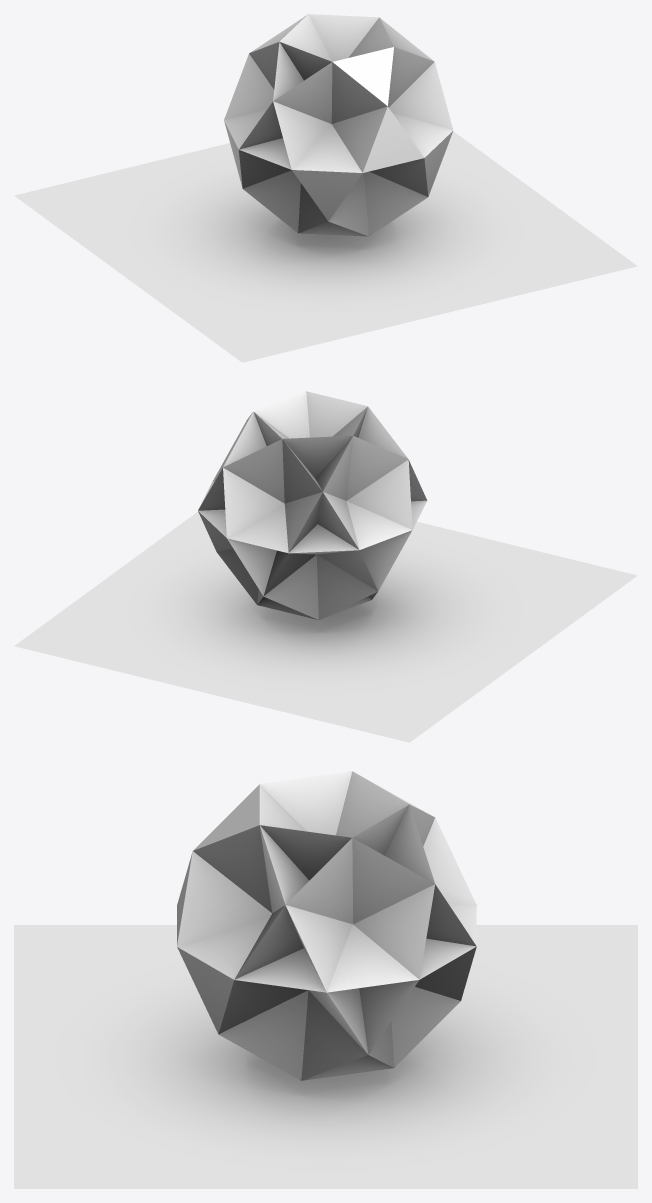
The model's file is hedra.dae.
3 views of the same model, one above another, from view 1: azimuth 30°, elevation 25°; view 2: azimuth 150°, elevation 25°; view 3: azimuth 270°, elevation 25° (orthographic). The views are drawn at different scales.
Visible parts, largest first — view 1: pasted__pPlane2, Hedra05; view 2: pasted__pPlane2, Hedra05; view 3: pasted__pPlane2, Hedra05.
Boxes of the visible parts, x1,y1,x2,y2 form: pasted__pPlane2: [14, 131, 637, 362]; Hedra05: [224, 14, 453, 236]; pasted__pPlane2: [14, 511, 637, 742]; Hedra05: [198, 391, 427, 619]; pasted__pPlane2: [14, 925, 637, 1188]; Hedra05: [177, 771, 476, 1080].
Size of the model in its own units: 6.23 by 6.23 by 2.88.
2 materials, 2 textured.
